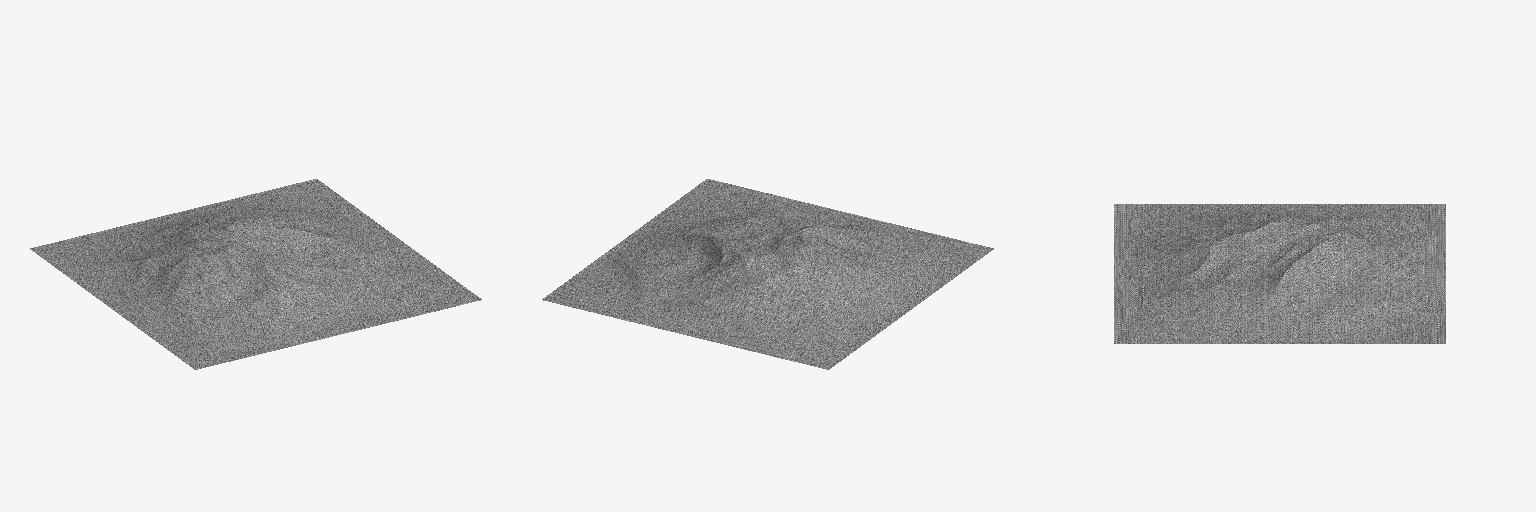
The picture shows the model from 3 angles: view 1: azimuth 30°, elevation 25°; view 2: azimuth 150°, elevation 25°; view 3: azimuth 270°, elevation 25°; orthographic projection.
Parts seen in each view (by area): view 1: Landschaft; view 2: Landschaft; view 3: Landschaft.
Boxes of the visible parts, <box> form: Landschaft: <box>30,179,481,369</box>; Landschaft: <box>542,179,993,369</box>; Landschaft: <box>1114,204,1445,343</box>.
Size of the model in its own units: 13939 by 1699 by 13939.
1 materials, 1 textured.